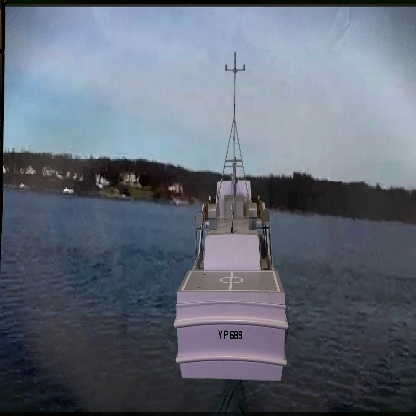YP689: (171, 52, 291, 383)
